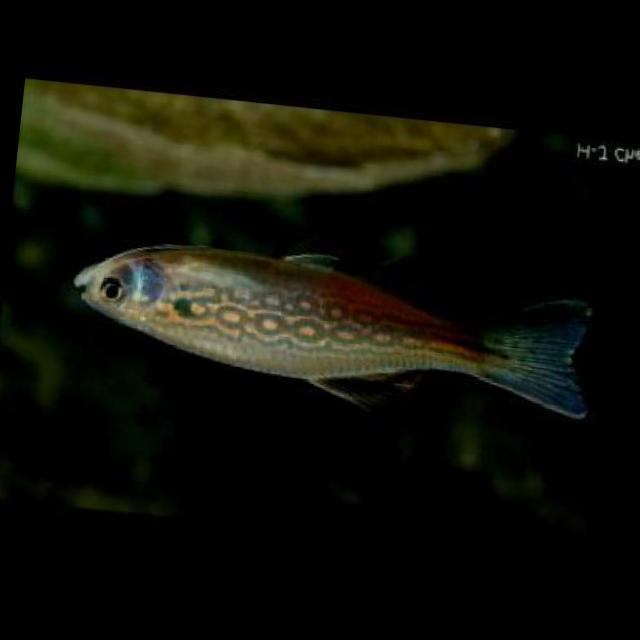ZebraFish: (66, 218, 602, 431)
